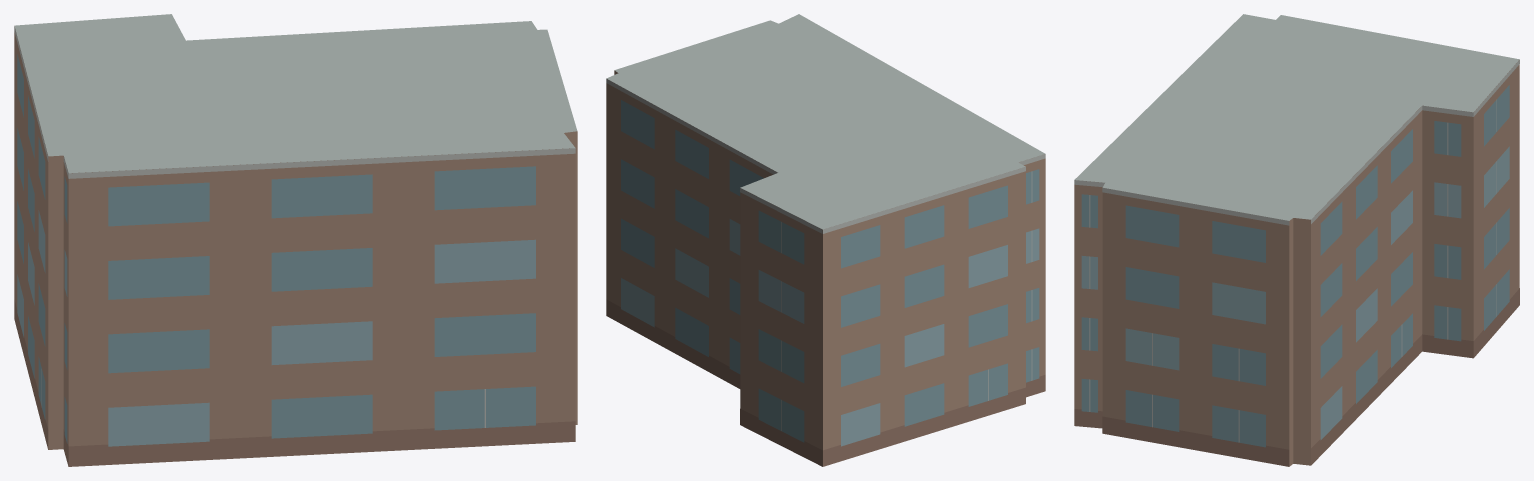
File: survey-upis-32993527.glb
3 renders of one model, left to right at view 1: azimuth 30°, elevation 25°; view 2: azimuth 150°, elevation 25°; view 3: azimuth 270°, elevation 25°, orthographic. The views are drawn at different scales.
Visible parts, largest first — view 1: survey-upis-32993527.tmp; view 2: survey-upis-32993527.tmp; view 3: survey-upis-32993527.tmp.
Boxes of the visible parts, box(x1,y1,x2,y2) form: survey-upis-32993527.tmp: box(14, 14, 577, 466); survey-upis-32993527.tmp: box(606, 14, 1045, 466); survey-upis-32993527.tmp: box(1074, 14, 1519, 466).
Bounding box in the file's own units: 23.11 × 12.8 × 21.02.
